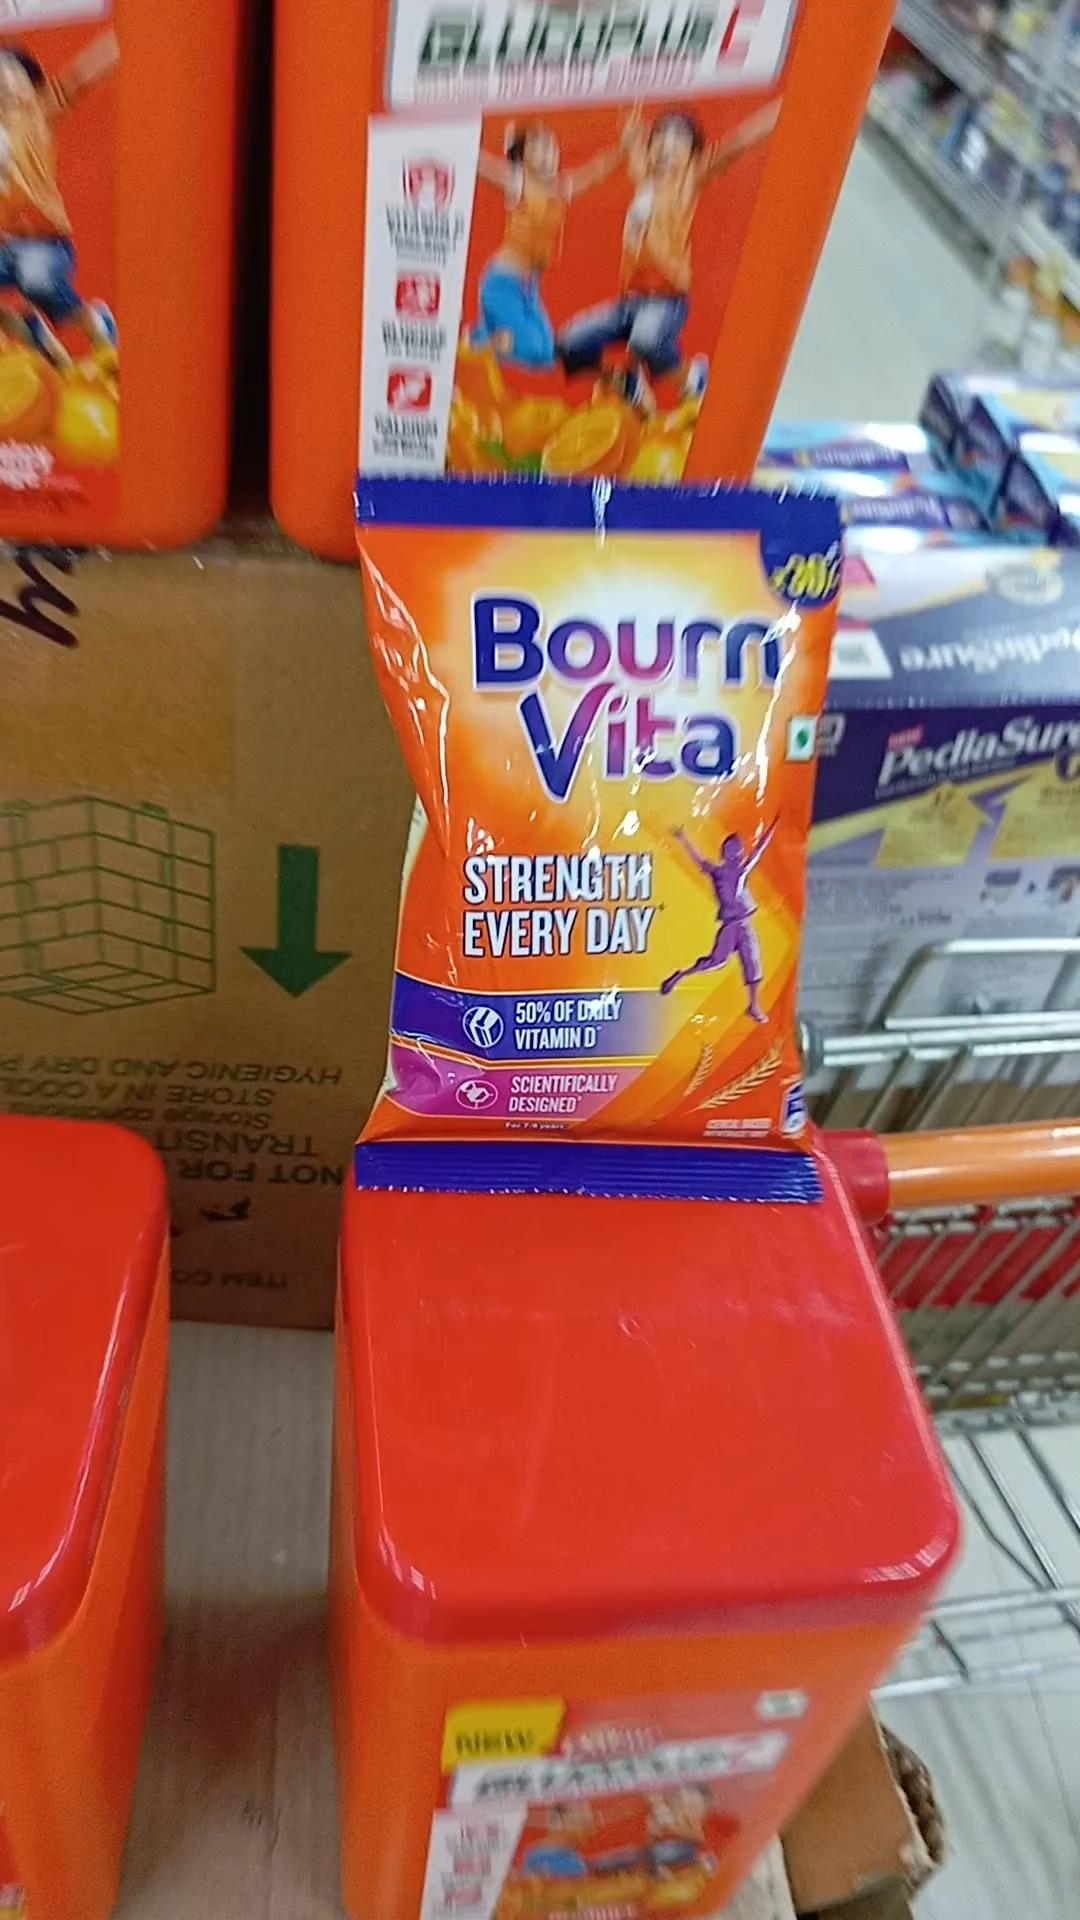BOURN_VITA_75_G_POUCH: (378, 467, 802, 1191)
